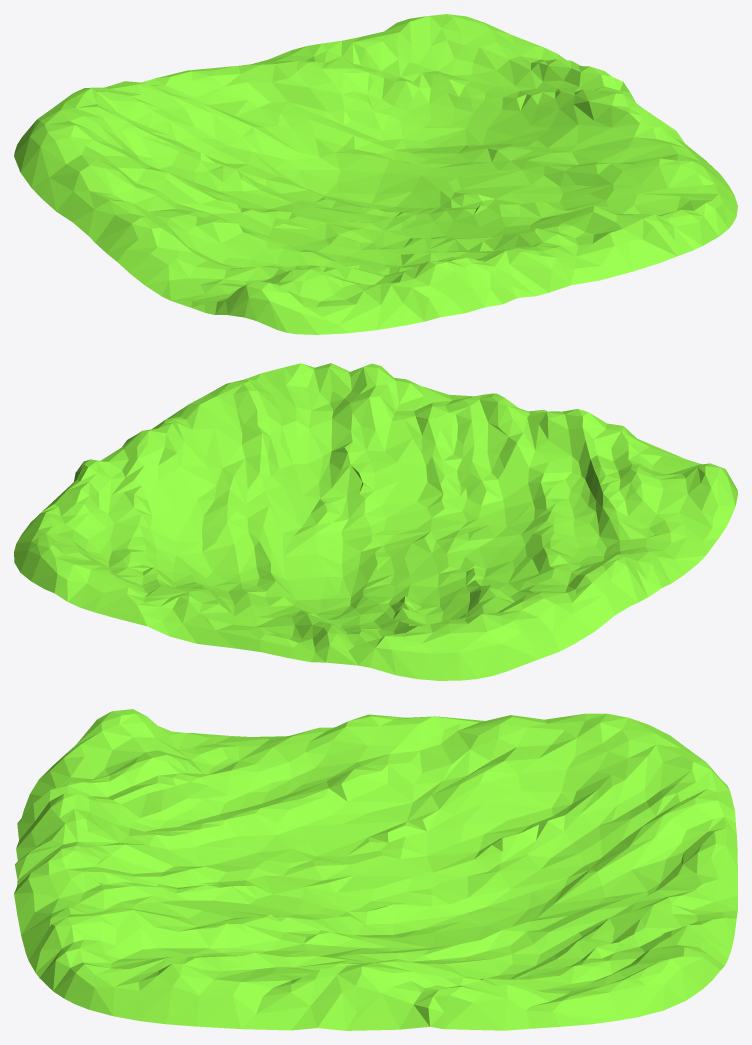
File: terrain4.fbx
The picture shows the model from 3 angles, top to bottom: view 1: azimuth 30°, elevation 25°; view 2: azimuth 150°, elevation 25°; view 3: azimuth 270°, elevation 25°; orthographic projection. The views are drawn at different scales.
Visible parts, largest first — view 1: terrain4; view 2: terrain4; view 3: terrain4.
Boxes of the visible parts, x1,y1,x2,y2 form: terrain4: [14, 14, 737, 334]; terrain4: [14, 363, 737, 680]; terrain4: [14, 709, 737, 1030].
Bounding box in the file's own units: 64.79 × 8.45 × 64.33.
